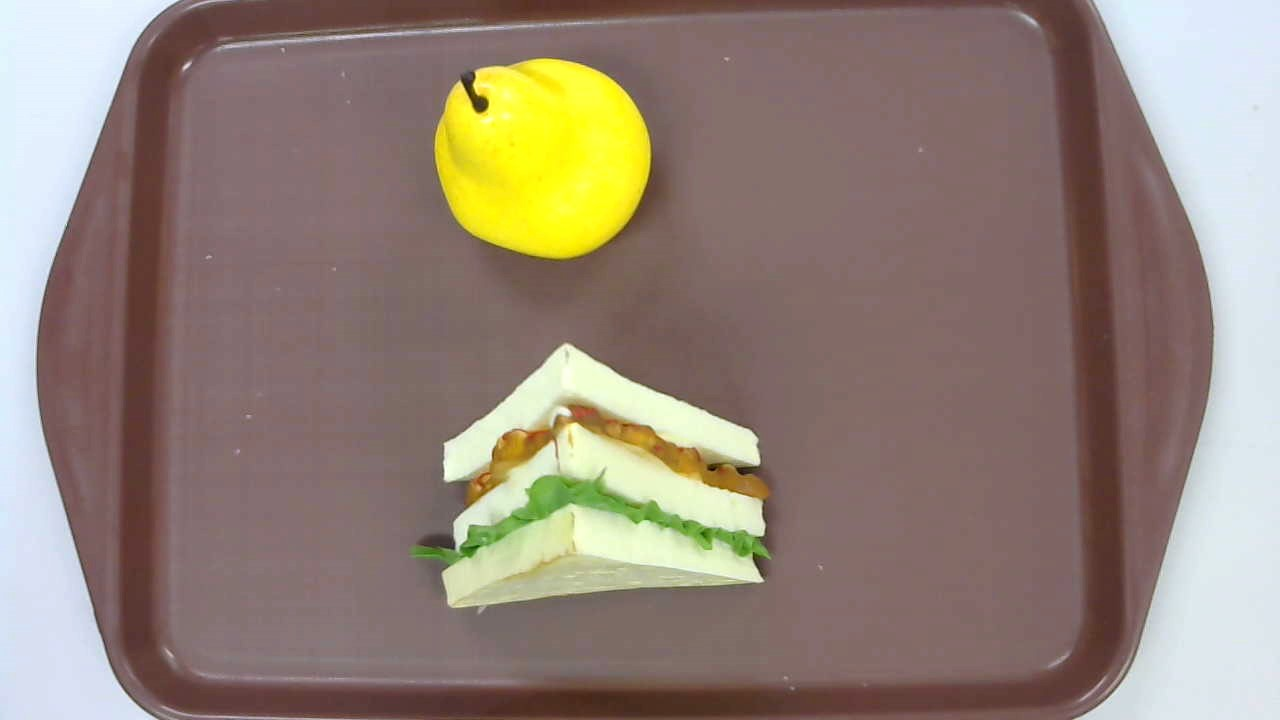sandwich: (408, 343, 773, 610)
yellow pear: (434, 58, 654, 260)
